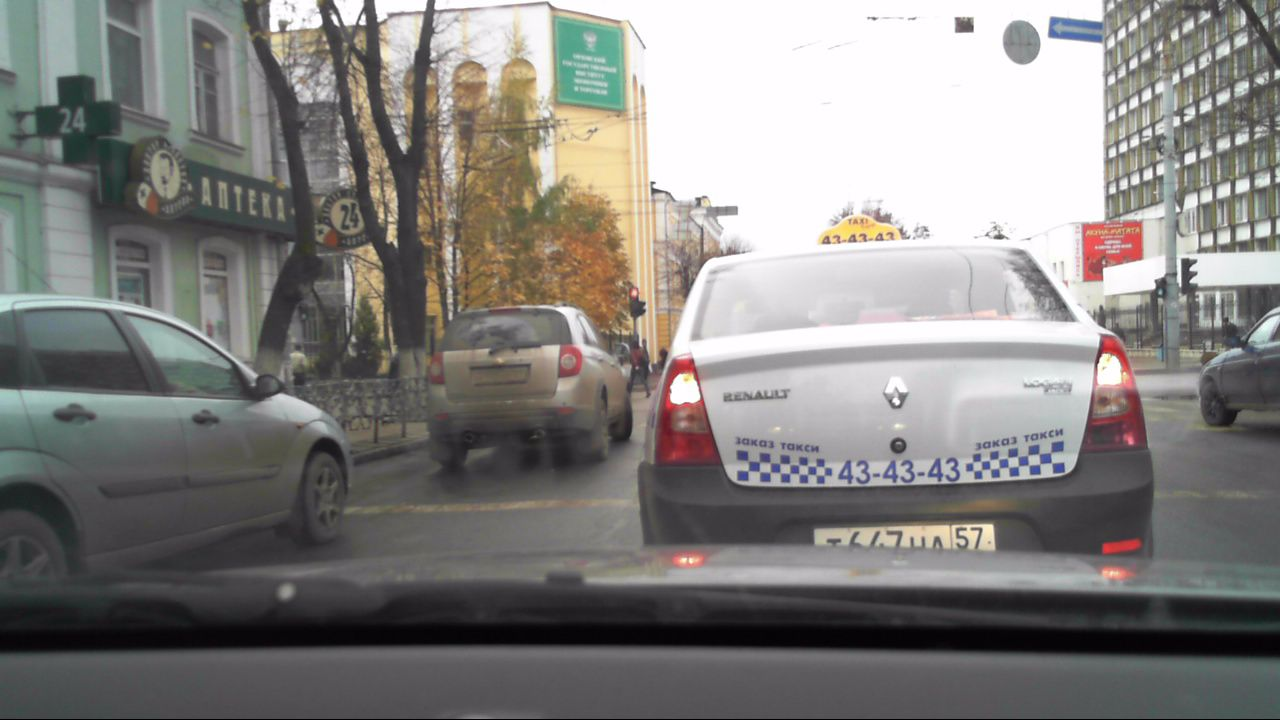One-Way Traffic: (1048, 16, 1104, 43)
